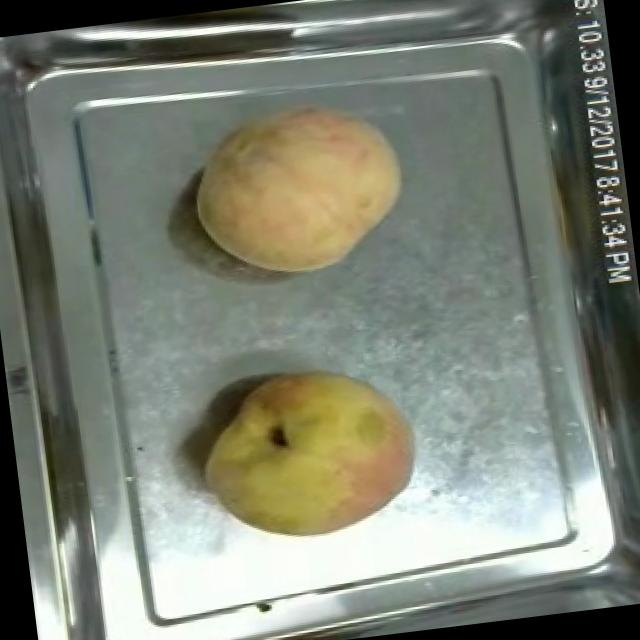Fruit: (176, 76, 424, 294), (185, 350, 432, 560)
